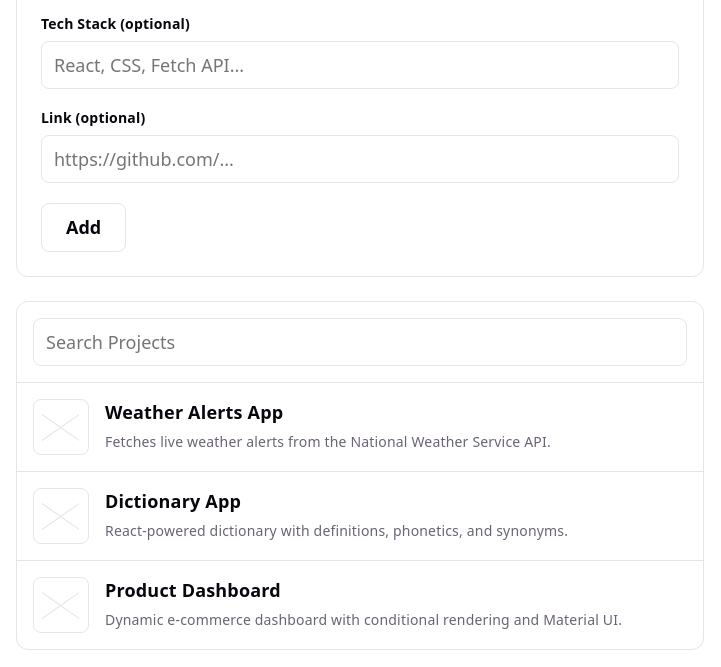
App › filters the project list based on the search term
(page scrolled)
Type "Weather" into the search field with placeholder "Search Projects" at (360, 342), box [33, 318, 687, 366]
(page scrolled)
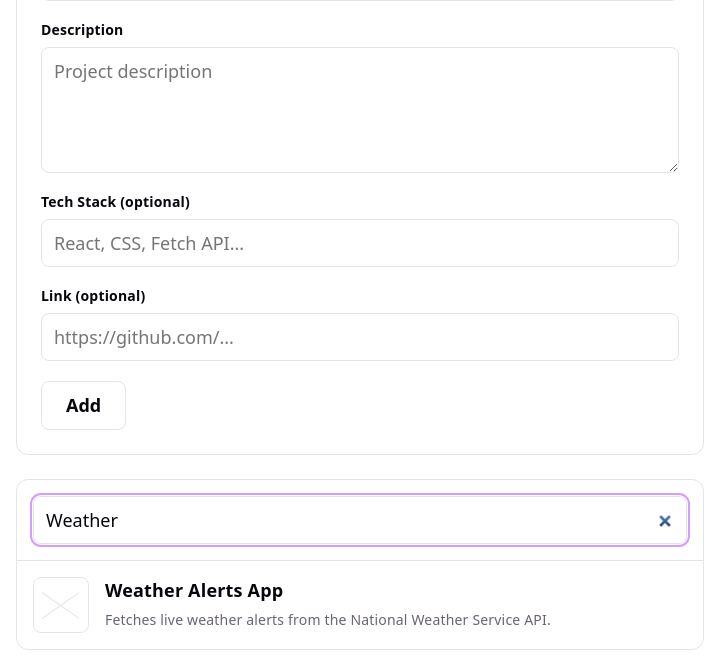
expect the heading "Weather Alerts App" is shown: met, box [105, 578, 283, 602]
expect the link "Dictionary App" is gone: met
